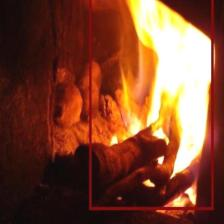fire: (89, 0, 213, 209)
